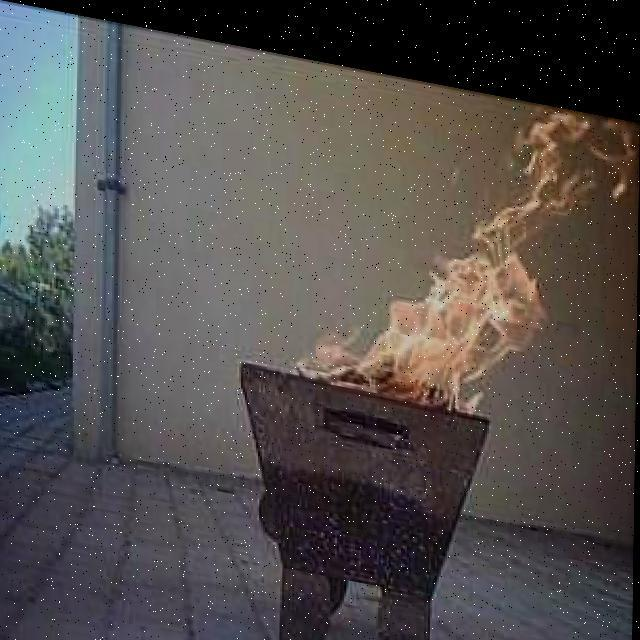Fire: (274, 42, 639, 422)
